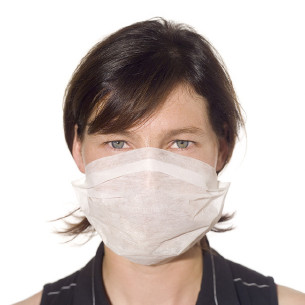face_mask: (84, 79, 215, 264)
